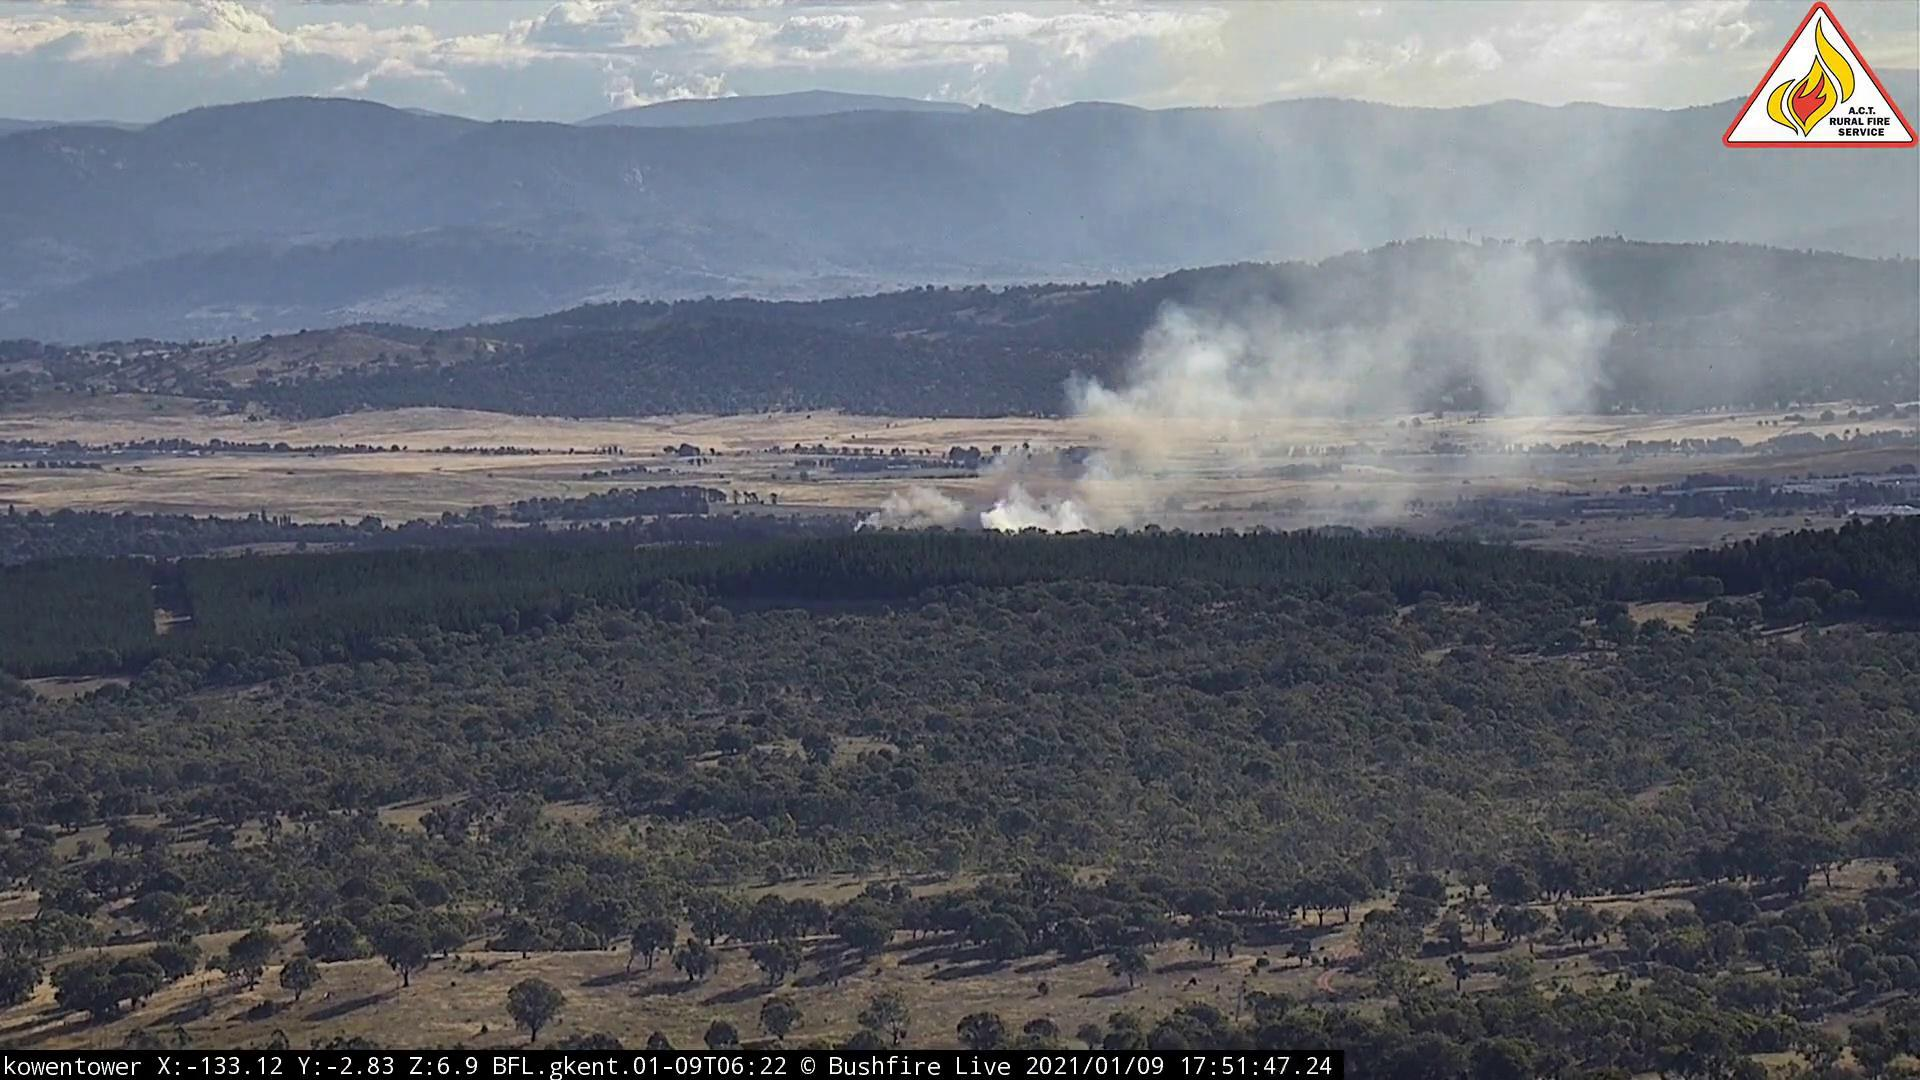Smoke: (857, 3, 1721, 542)
